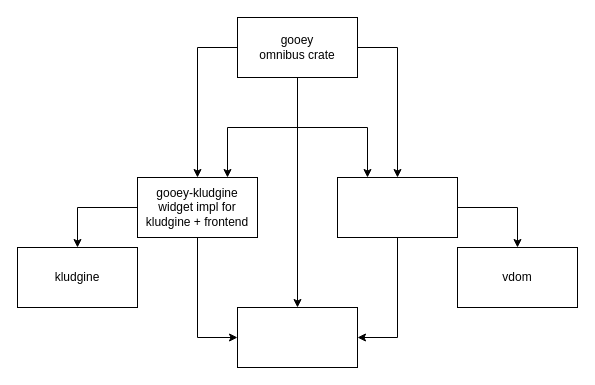
Some shapes in this 595 by 385 pixel diagram are drawn without their labels. The centre of each missing label's shape, as x and y in pixels:
gooey-browser widget impl for vdom + frontend: point (397, 207)
gooey-core core traits + widgets + layout: point (297, 337)
